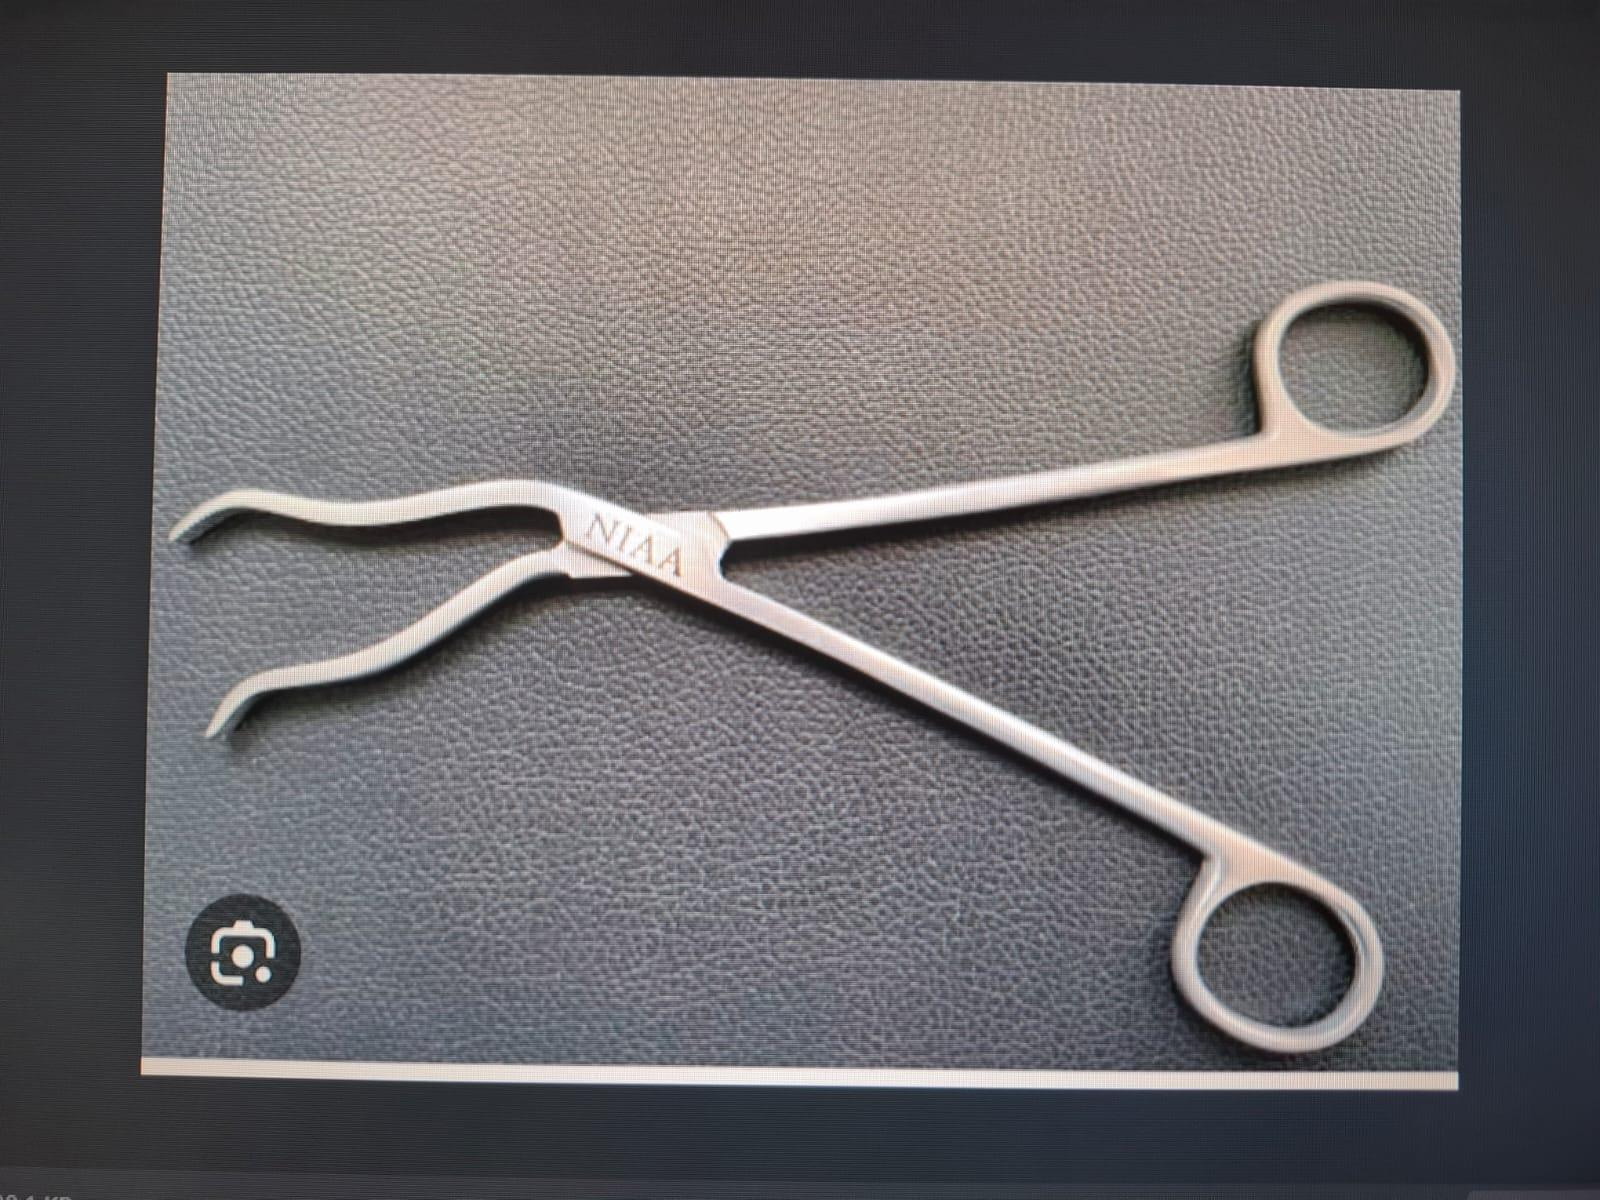Cheatle Forceps: (152, 278, 1450, 1068)
